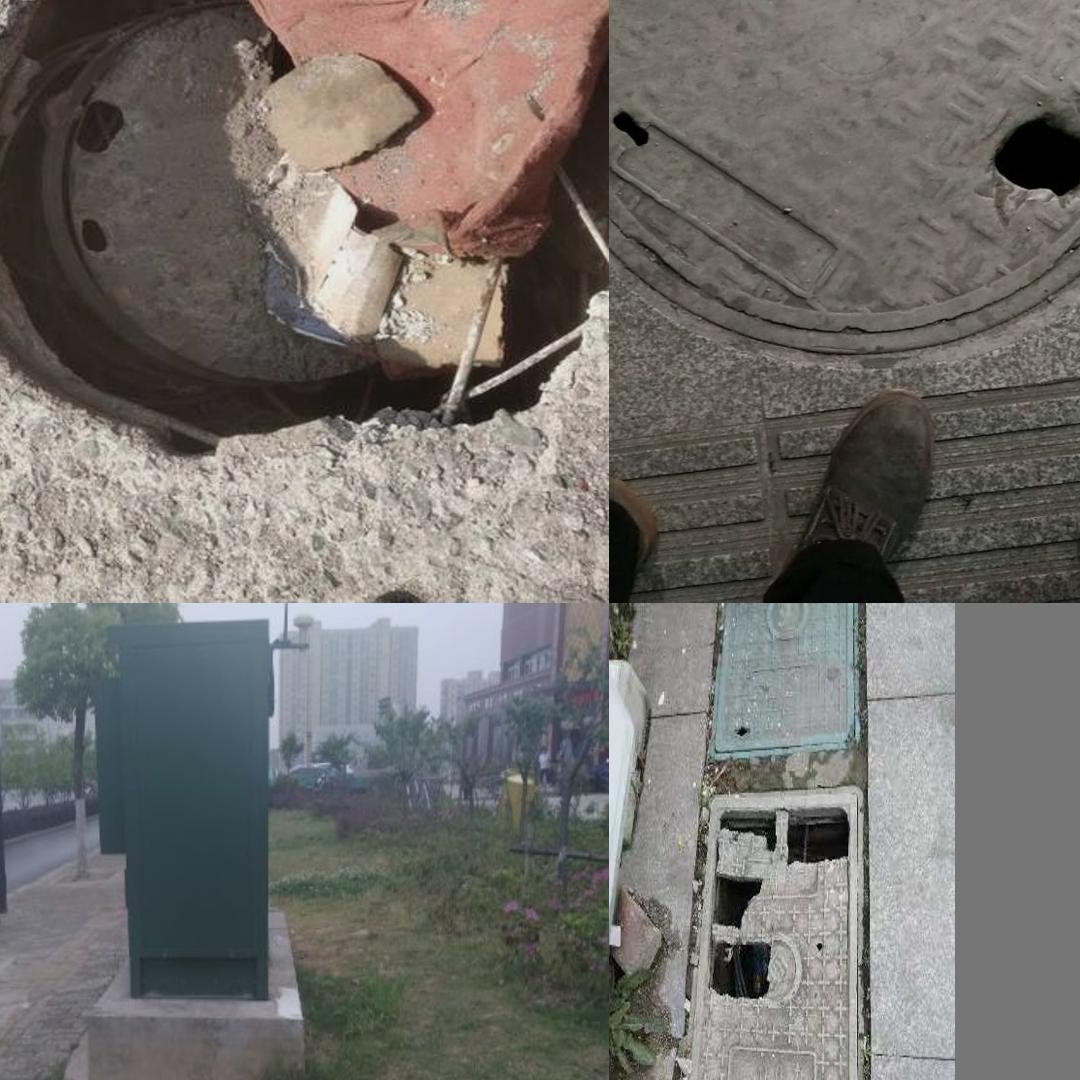broke: (0, 0, 588, 539), (609, 0, 1080, 352), (673, 785, 864, 1080)
